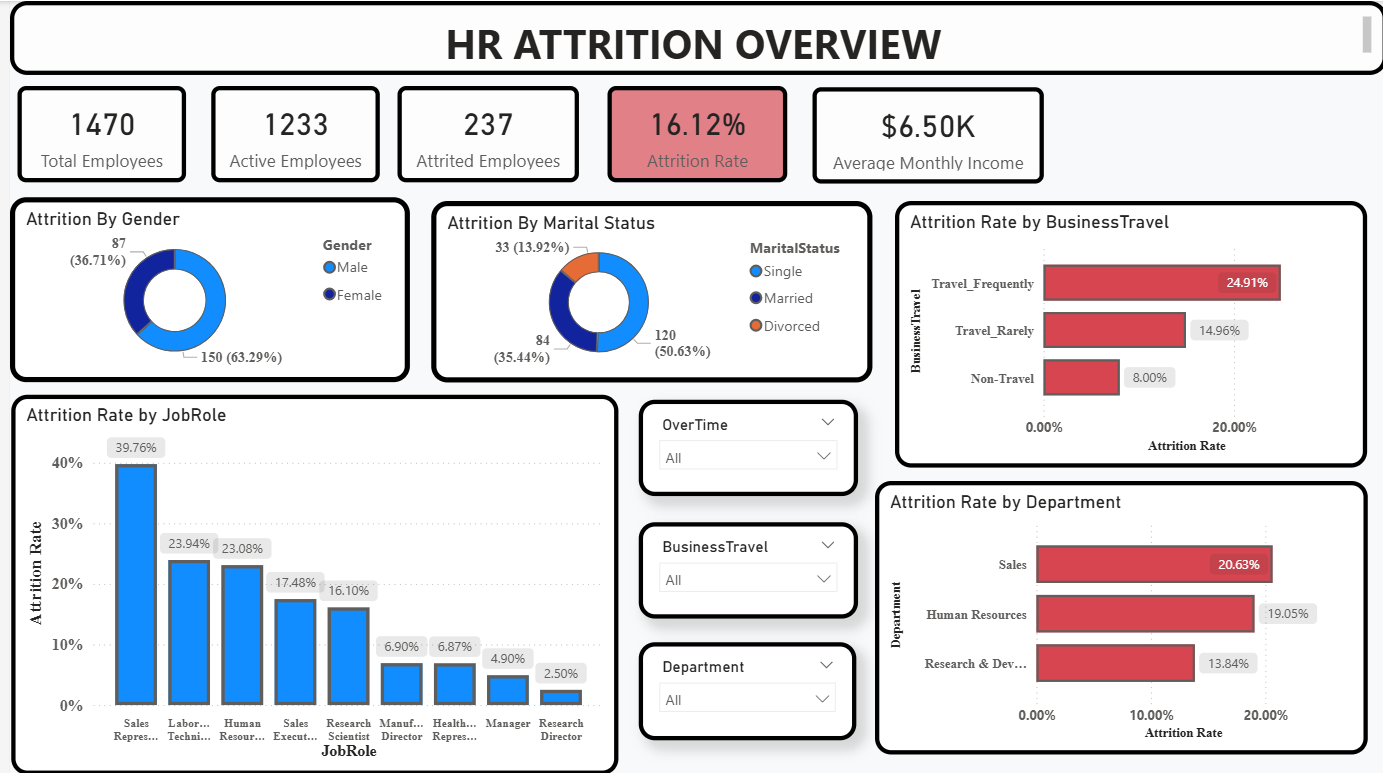

The page's visual inventory and layout, read from the dashboard file:
{"tool":"powerbi","page":{"name":"Page 1","canvas":[1280,720],"ordinal":0},"visuals":[{"type":"textbox","box":[0,0,1280.5,68.8],"z":0},{"type":"card","fields":{"Values":["data.Total Employees"]},"box":[6.5,79.2,157.1,89.6],"z":1000},{"type":"card","fields":{"Values":["data.Attrited Employees"]},"box":[361,79.2,168.8,89.6],"z":2000},{"type":"card","fields":{"Values":["data.Average Monthly Income"]},"box":[746.8,80.5,215.6,89.6],"z":3000},{"type":"card","fields":{"Values":["data.Attrition Rate"]},"box":[555.8,79.2,167.5,89.6],"z":4000},{"type":"slicer","fields":{"Values":["data.Department"]},"box":[584.4,596.1,202.6,90.9],"z":5000},{"type":"slicer","fields":{"Values":["data.BusinessTravel"]},"box":[584.4,484.4,203.9,89.6],"z":6000},{"type":"clusteredBarChart","fields":{"Y":["data.Attrition Rate"],"Category":["data.Department"]},"box":[805.2,446.8,458.4,254.5],"z":7000},{"type":"donutChart","title":"Attrition By Marital Status","fields":{"Category":["data.MaritalStatus"],"Y":["data.Attrited Employees"]},"box":[392.2,185.7,410.4,168.8],"z":8000},{"type":"card","fields":{"Values":["data.Active Employees"]},"box":[187,79.2,157.1,89.6],"z":9000},{"type":"clusteredColumnChart","fields":{"Y":["data.Attrition Rate"],"Category":["data.JobRole"]},"box":[1.3,366.2,564.9,353.2],"z":10000},{"type":"donutChart","title":"Attrition By Gender","fields":{"Y":["data.Attrited Employees"],"Category":["data.Gender"]},"box":[0,182.6,372.1,172.1],"z":11000},{"type":"slicer","fields":{"Values":["data.OverTime"]},"box":[584.4,371.4,203.9,89.6],"z":12000},{"type":"clusteredBarChart","fields":{"Y":["data.Attrition Rate"],"Category":["data.BusinessTravel"]},"box":[823.3,186,439.5,247.7],"z":13000}]}

Visuals, with their boxes in screenshot pixels (x1, y1, x2, y2), scaled from the page's 1280x720 canvas onto the 1383x773 screenshot:
textbox: {"left": 0, "top": 0, "right": 1382, "bottom": 74}
card - data.Total Employees: {"left": 7, "top": 85, "right": 177, "bottom": 181}
card - data.Attrited Employees: {"left": 390, "top": 85, "right": 572, "bottom": 181}
card - data.Average Monthly Income: {"left": 807, "top": 86, "right": 1040, "bottom": 183}
card - data.Attrition Rate: {"left": 601, "top": 85, "right": 782, "bottom": 181}
slicer - data.Department: {"left": 631, "top": 640, "right": 850, "bottom": 738}
slicer - data.BusinessTravel: {"left": 631, "top": 520, "right": 852, "bottom": 616}
clusteredBarChart - data.Attrition Rate x data.Department: {"left": 870, "top": 480, "right": 1365, "bottom": 753}
"Attrition By Marital Status" donutChart: {"left": 424, "top": 199, "right": 867, "bottom": 381}
card - data.Active Employees: {"left": 202, "top": 85, "right": 372, "bottom": 181}
clusteredColumnChart - data.Attrition Rate x data.JobRole: {"left": 1, "top": 393, "right": 612, "bottom": 772}
"Attrition By Gender" donutChart: {"left": 0, "top": 196, "right": 402, "bottom": 381}
slicer - data.OverTime: {"left": 631, "top": 399, "right": 852, "bottom": 495}
clusteredBarChart - data.Attrition Rate x data.BusinessTravel: {"left": 890, "top": 200, "right": 1364, "bottom": 466}
